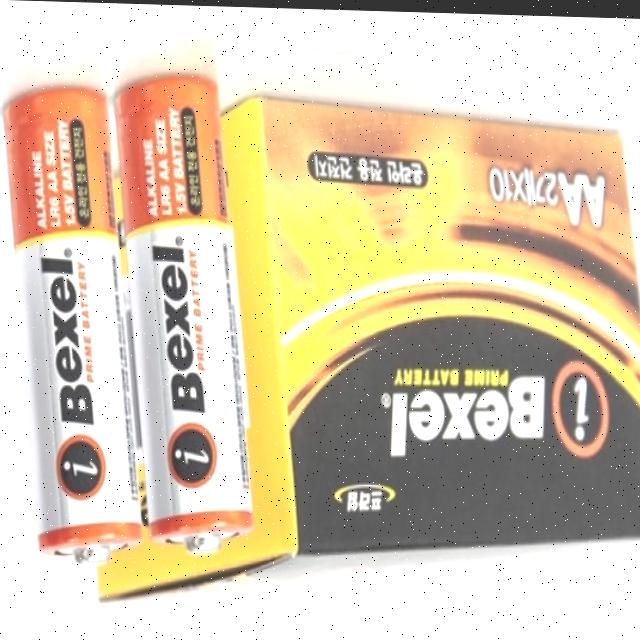battery: (114, 67, 264, 562), (2, 87, 138, 579)
